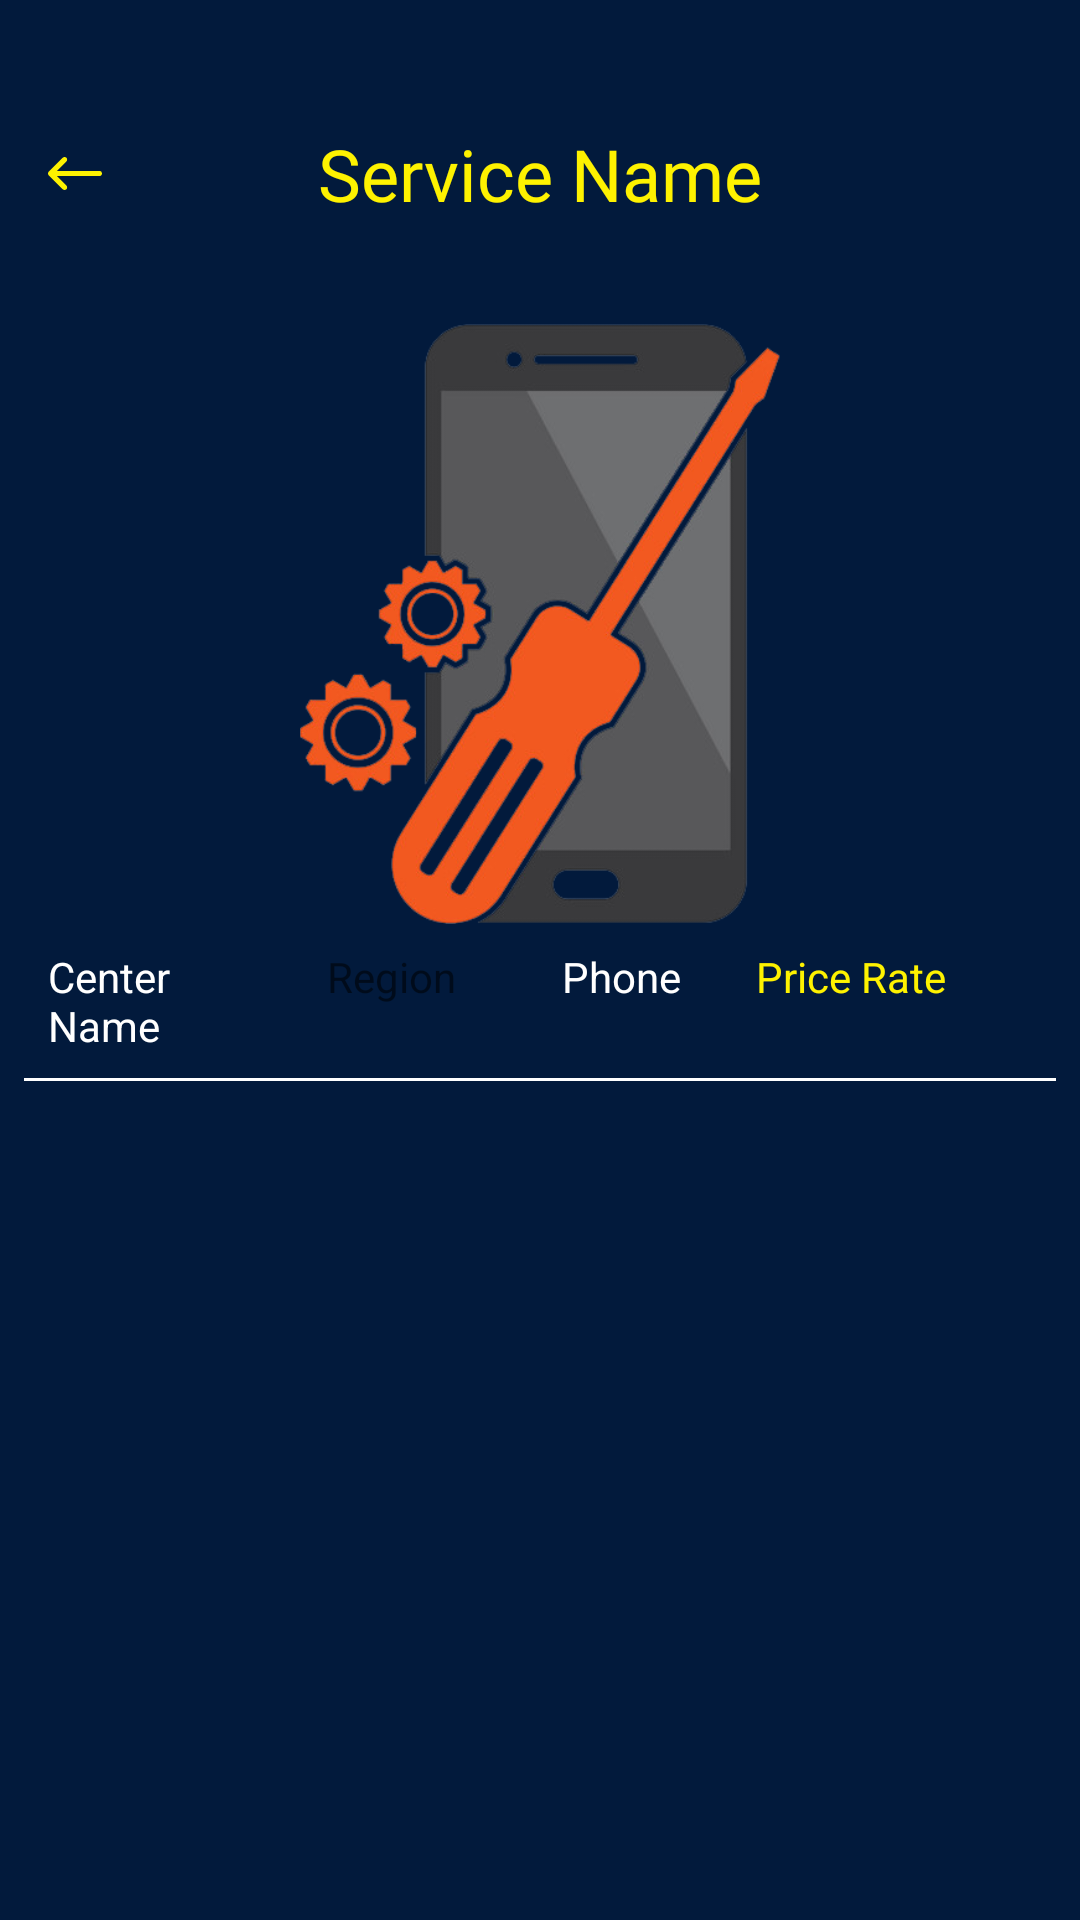

Icons on this 1080x1920 Android screen, each with the point to tap as point (x, y):
back: point (75, 173)
